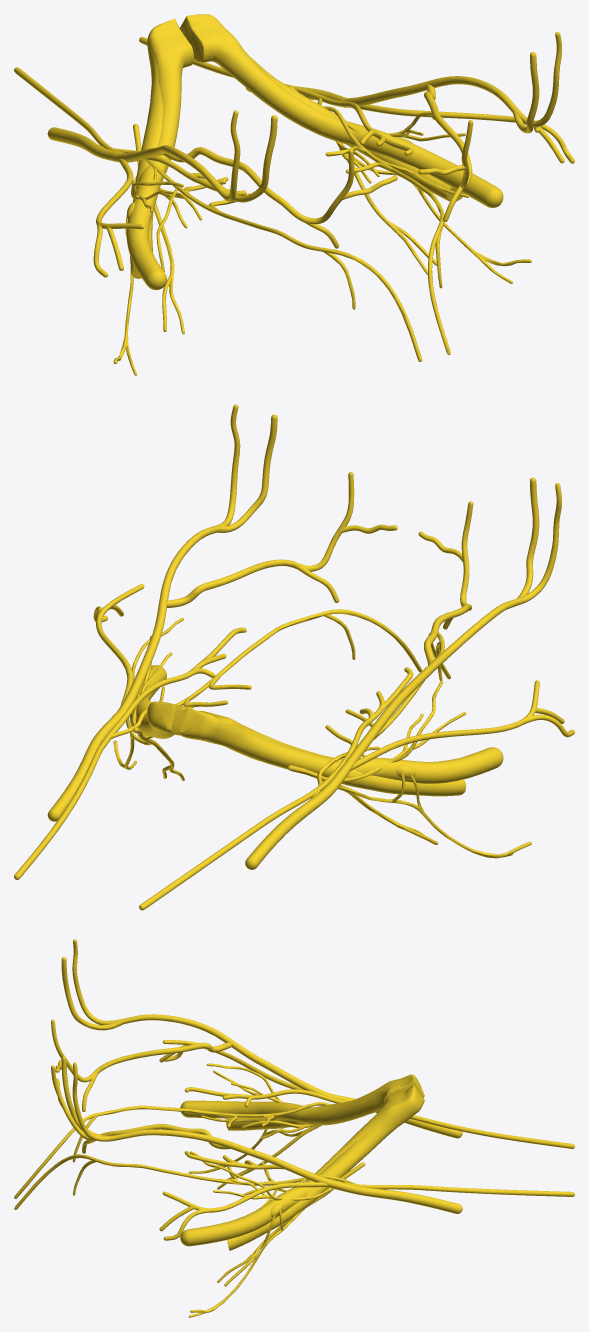
The model's file is nerves.glb.
3 renders of one model, top to bottom at view 1: azimuth 30°, elevation 25°; view 2: azimuth 150°, elevation 25°; view 3: azimuth 270°, elevation 25°, orthographic. The views are drawn at different scales.
Visible parts, largest first — view 1: grp1; view 2: grp1; view 3: grp1.
Boxes of the visible parts, x1=… form: grp1: x1=14, y1=14, x2=574, y2=375; grp1: x1=14, y1=404, x2=574, y2=910; grp1: x1=14, y1=939, x2=574, y2=1317.
Bounding box in the file's own units: 0.087 × 0.0548 × 0.1138.
